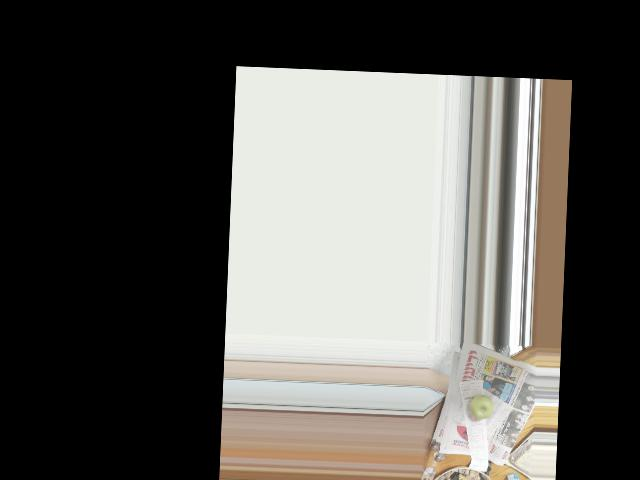apple: (467, 390, 496, 421)
